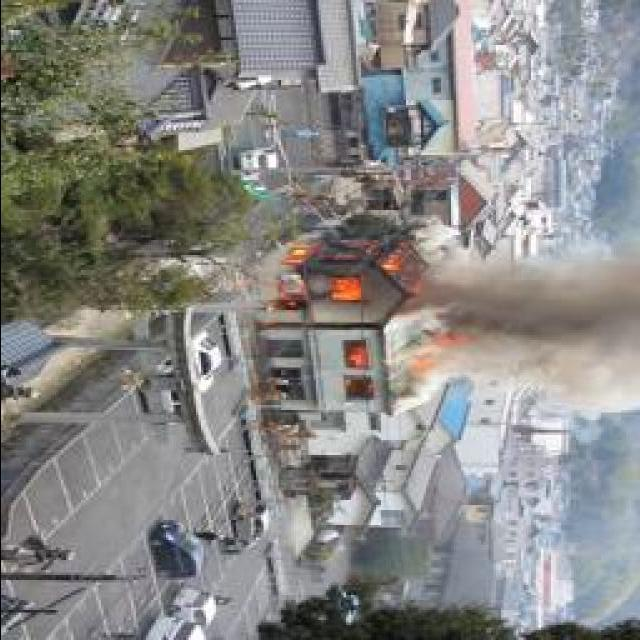Fire: (280, 228, 398, 312), (342, 341, 364, 371)
